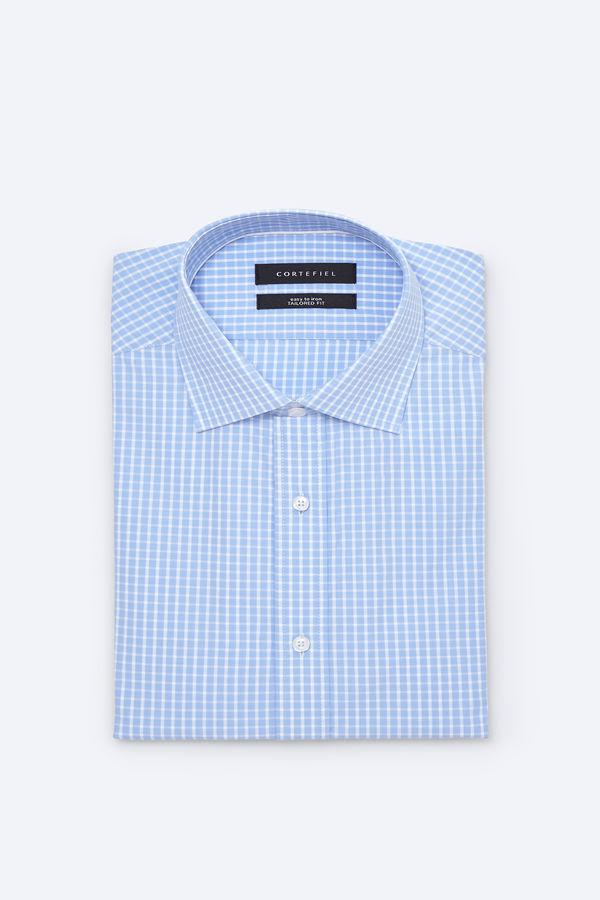teeshirt: (107, 210, 489, 745)
